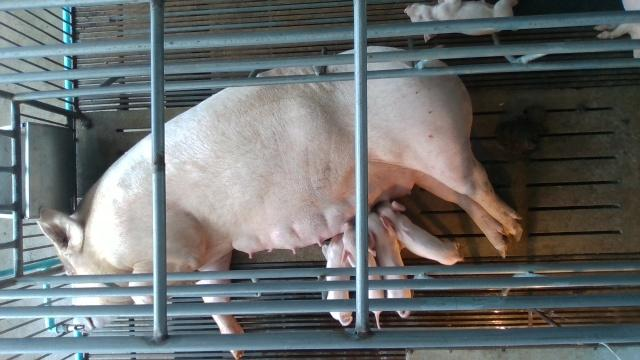piglet: (380, 201, 463, 266), (404, 0, 518, 43), (368, 210, 412, 318), (342, 223, 386, 329), (320, 235, 356, 328), (594, 0, 640, 57)
sow-sleep-lactate: (38, 45, 522, 360)
